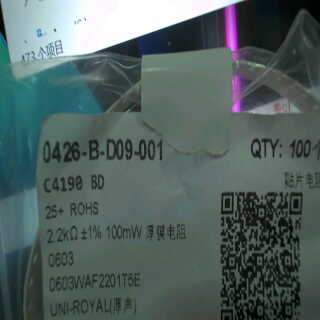2.2kR: (44, 221, 82, 249)
